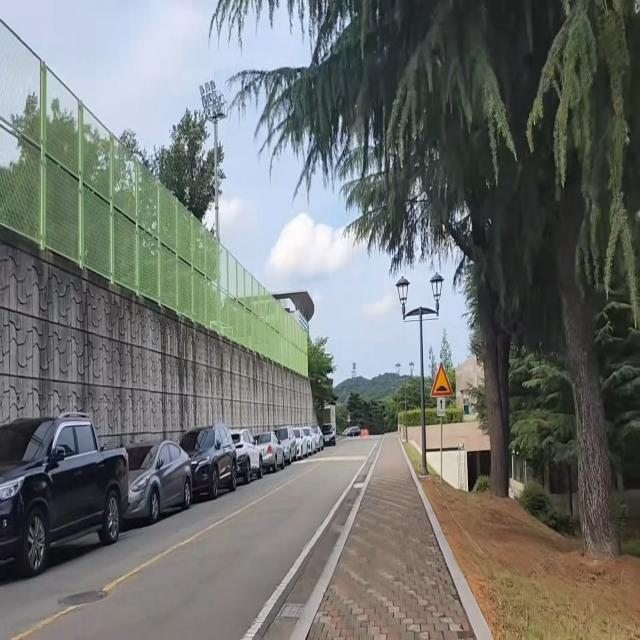road: (0, 434, 384, 640)
sidewalk: (294, 430, 492, 640)
